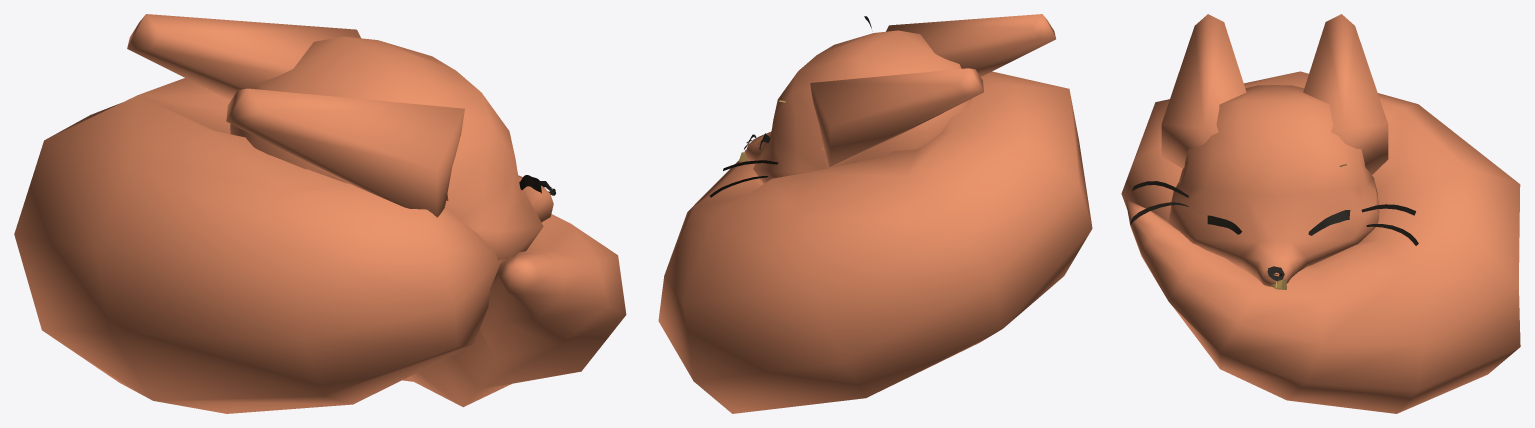
File: fox.glb
3 views of the same model, side by side, from view 1: azimuth 30°, elevation 25°; view 2: azimuth 150°, elevation 25°; view 3: azimuth 270°, elevation 25° (orthographic). The views are drawn at different scales.
Visible parts, largest first — view 1: tail, fox face; view 2: tail, fox face, brush_DoubleTaperedFlat_g0_b0; view 3: tail, fox face, brush_DoubleTaperedFlat_g0_b0.
Part boxes in pixels (x1,y1,x2,y2): tail: (14,78,626,413); fox face: (127,14,553,260); tail: (658,71,1092,413); fox face: (745,14,1055,183); brush_DoubleTaperedFlat_g0_b0: (709,16,871,197); tail: (1121,71,1520,413); fox face: (1161,14,1388,287); brush_DoubleTaperedFlat_g0_b0: (1130,164,1418,289).
Bounding box in the file's own units: 0.3304 × 0.2789 × 0.343.
